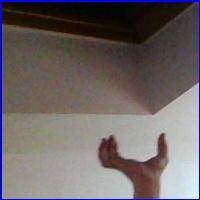space: (93, 127, 180, 180)
